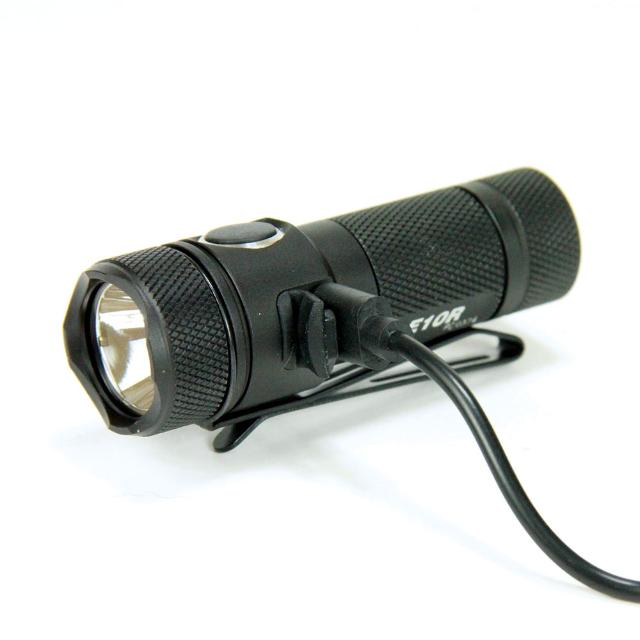Flashlight: (55, 157, 640, 608)
